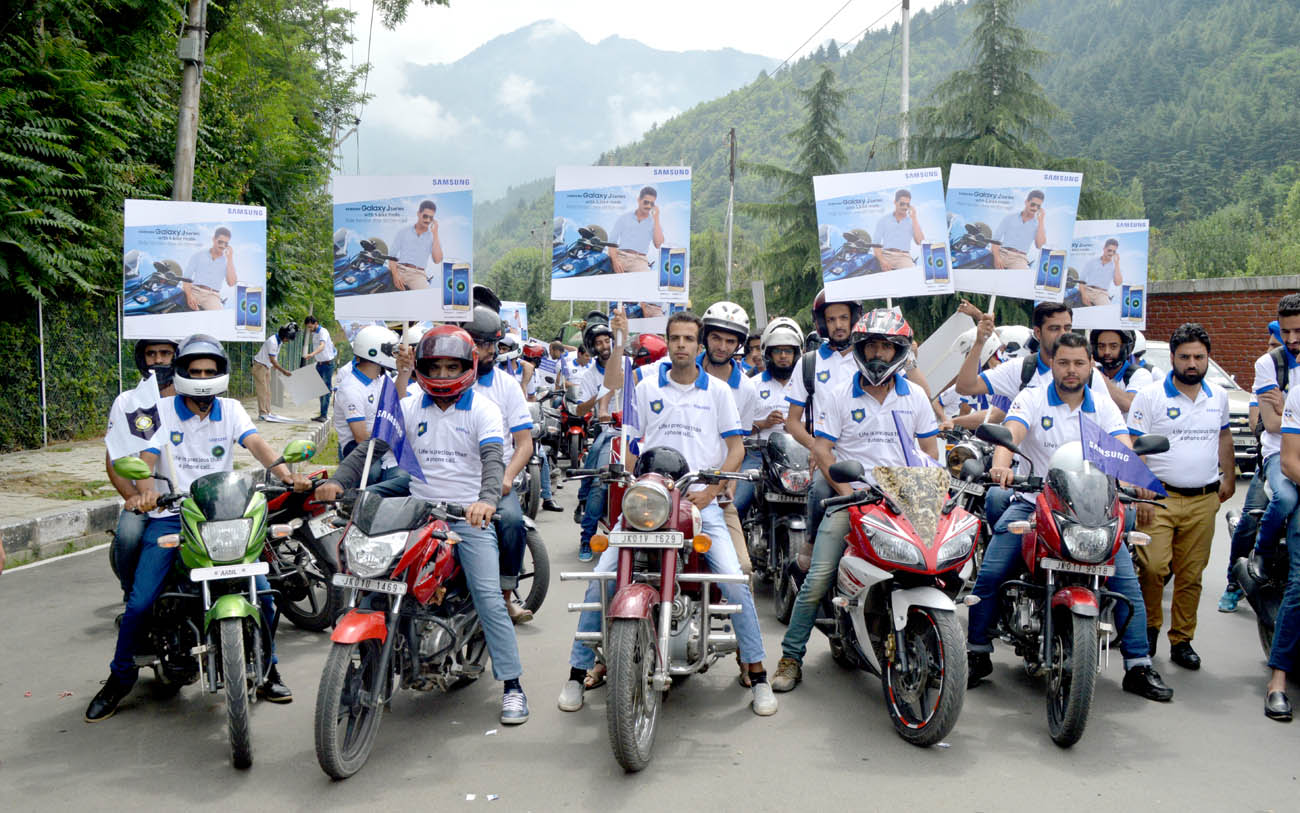h_bike: (104, 315, 290, 756), (584, 309, 745, 784), (822, 310, 979, 745), (1012, 306, 1140, 759)
h_nohelmet: (1047, 333, 1100, 402), (662, 310, 704, 378), (1029, 296, 1071, 356)
numplate: (320, 563, 413, 607), (1038, 553, 1122, 587), (607, 523, 689, 556), (189, 557, 275, 579)
